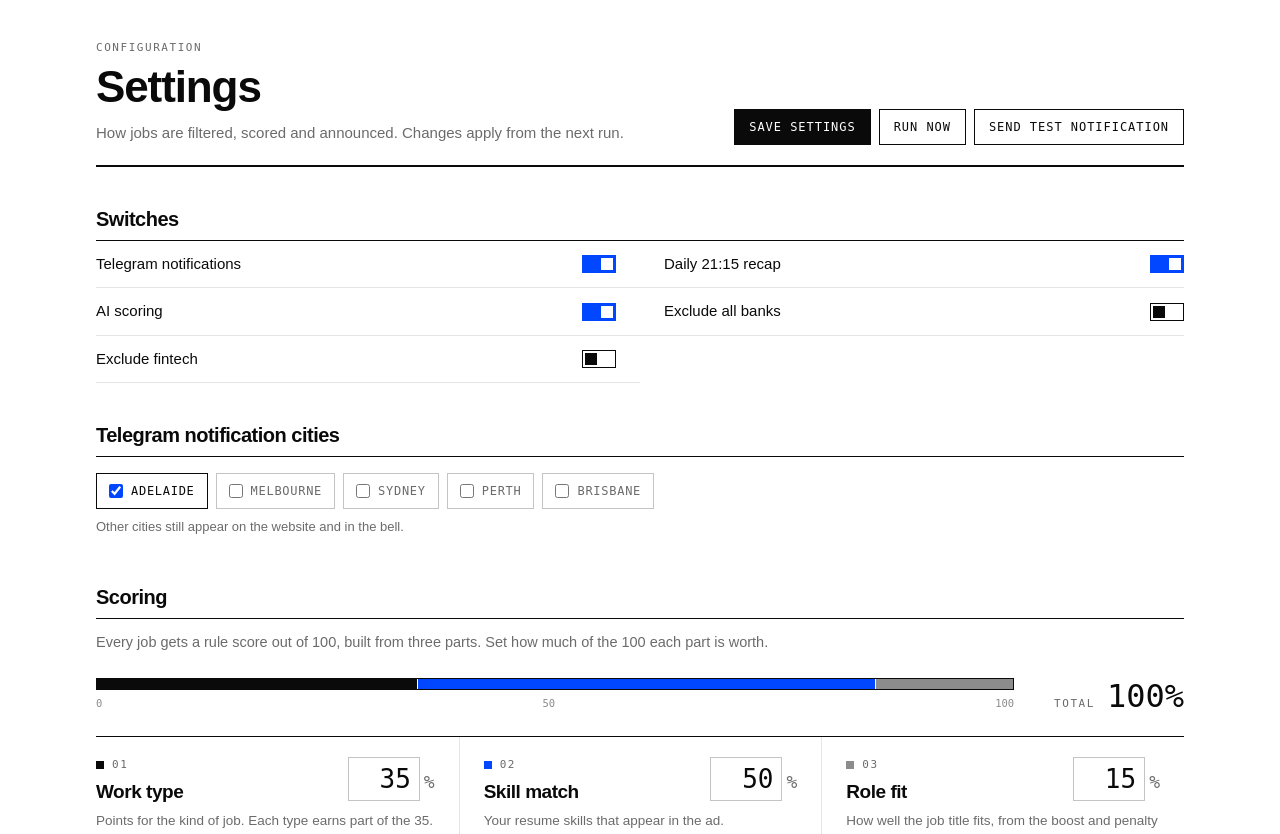
Test: SettingsPage scoring › blocks saving when the parts don't add up to 100, and Balance fixes it
Later steps or results of the test are not shown.
Check: the text "100%" is shown, box [1107,680,1184,712]
Replace the text in the number field named "Skill match share of the rule score" with "60" at [746, 779], box [710,757,782,801]
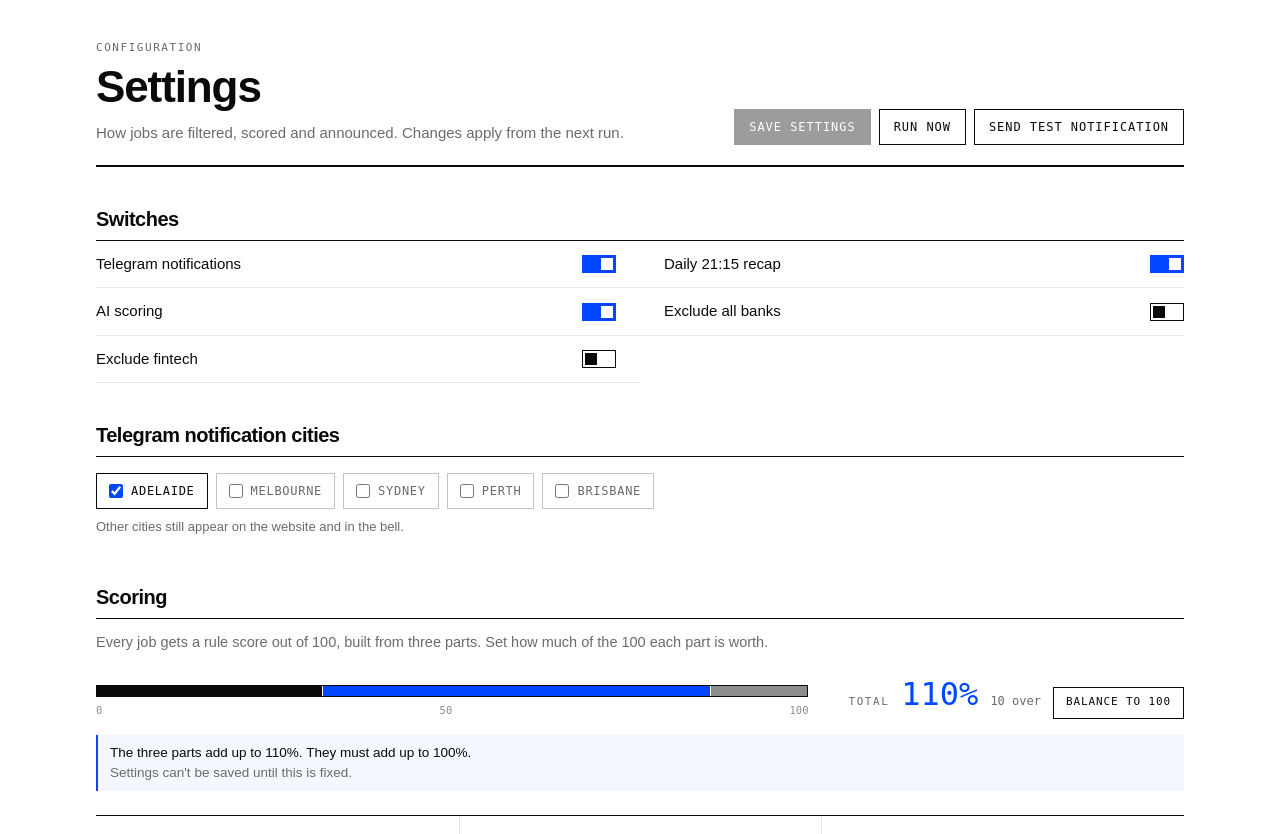
Check: the text with test id "weights-total" reads "110%", box [901,678,978,710]
Check: the message shows "add up to 110%", box [110,745,471,760]
Click the button "Balance to 100" at [1118, 703], box [1053,687,1184,719]
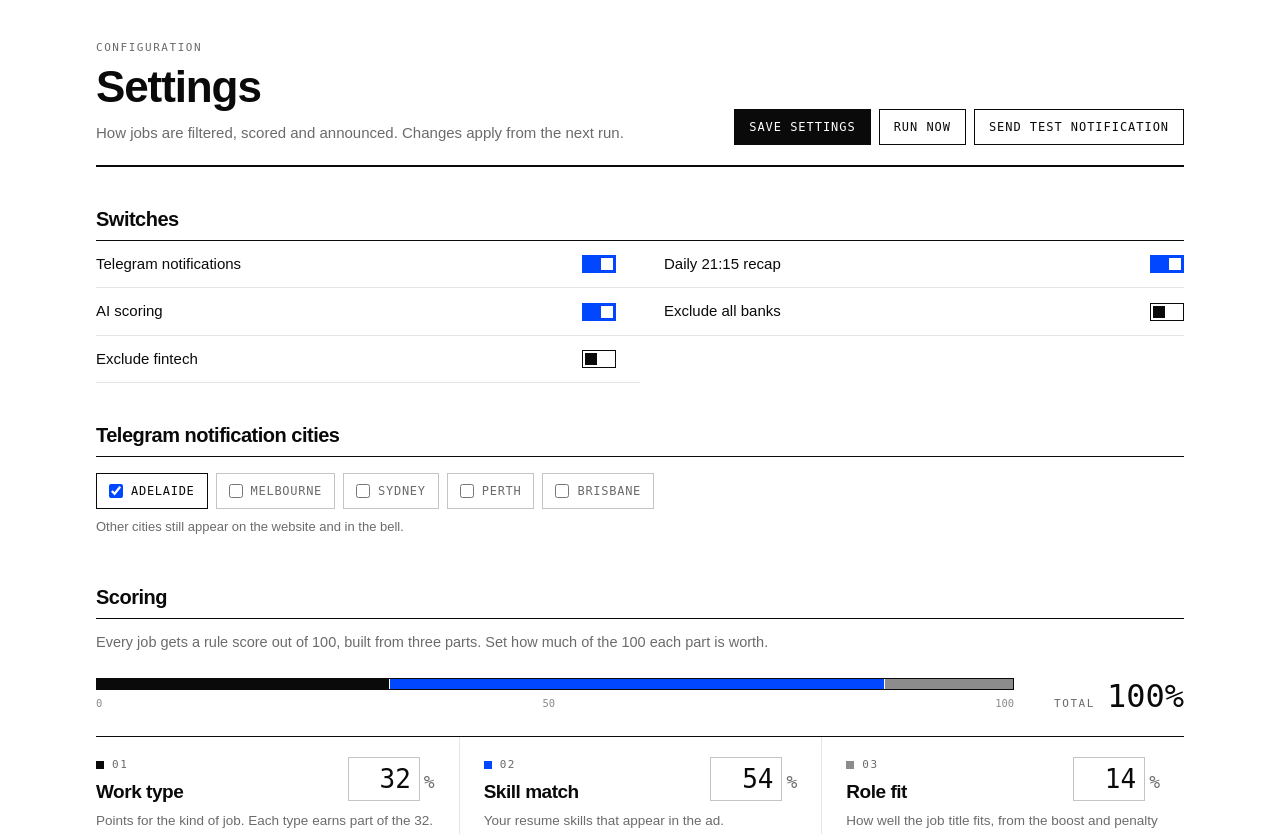
Check: the text with test id "weights-total" reads "100%", box [1107,680,1184,712]
Check: the button "Save settings" is enabled, box [734,109,871,145]
